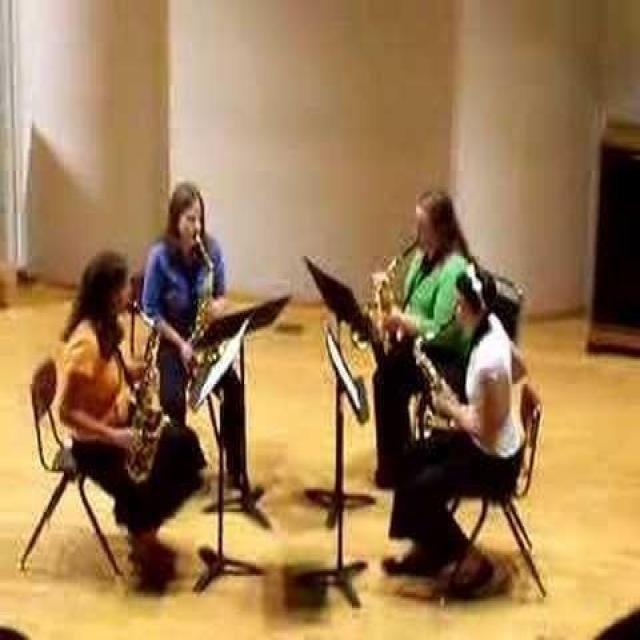saxophone: (350, 238, 423, 366), (125, 300, 173, 490), (403, 314, 466, 439), (180, 233, 222, 412)
